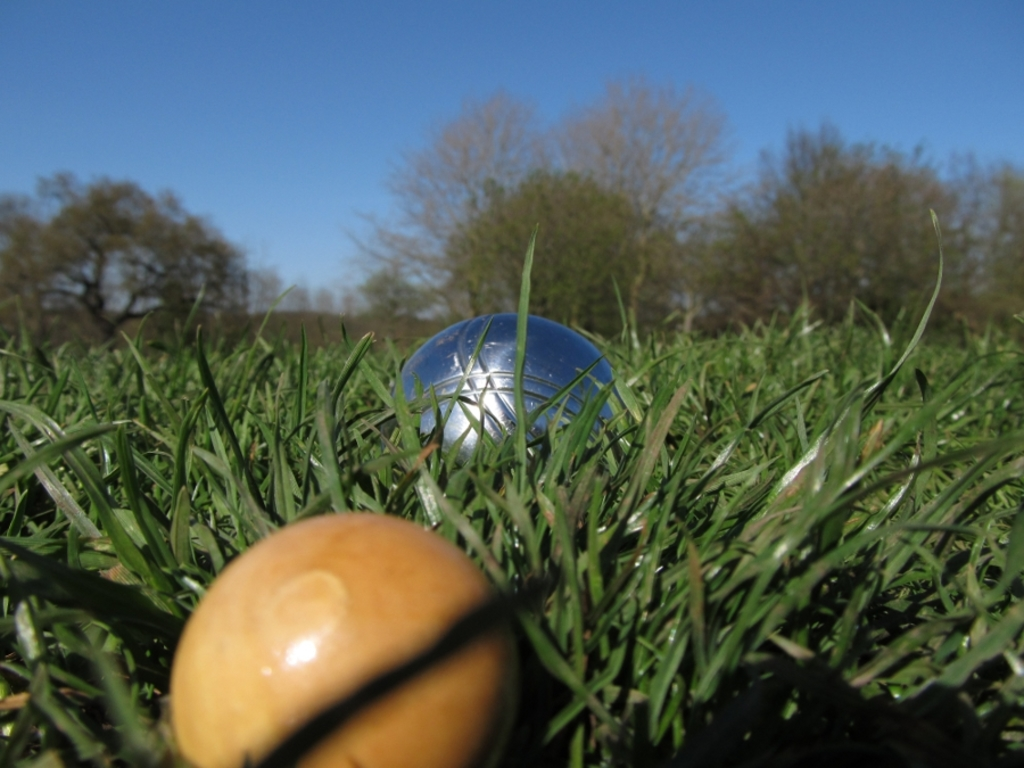Ball: (170, 514, 529, 767), (398, 312, 617, 461)
